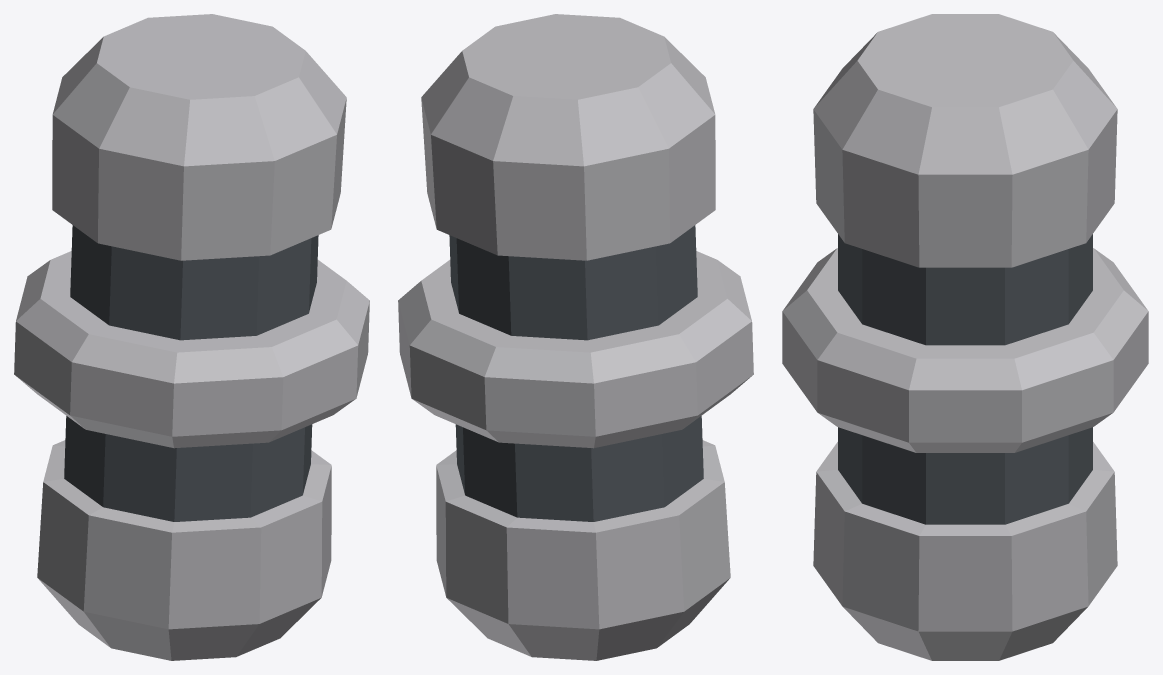
File: Dropship_05_Fuse.fbx
3 views of the same model, side by side, from view 1: azimuth 30°, elevation 25°; view 2: azimuth 150°, elevation 25°; view 3: azimuth 270°, elevation 25° (orthographic).
Parts seen in each view (by area): view 1: Dropship_05_Fuse; view 2: Dropship_05_Fuse; view 3: Dropship_05_Fuse.
Boxes of the visible parts, x1,y1,x2,y2 form: Dropship_05_Fuse: (14,14,369,660); Dropship_05_Fuse: (398,14,753,660); Dropship_05_Fuse: (782,14,1148,660).
Size of the model in its own units: 53.92 by 96.76 by 56.4.
Materials: 1 (1 with a texture image).
